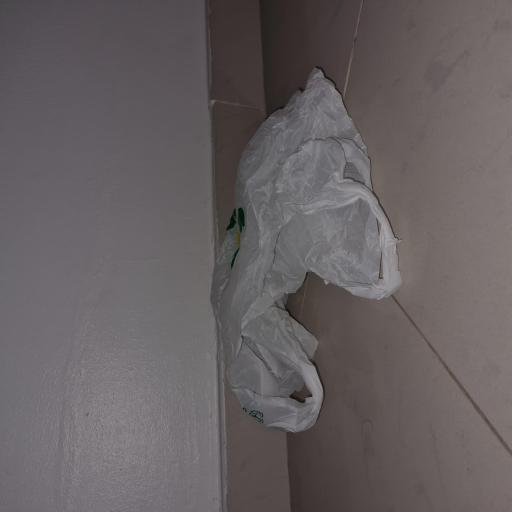plastic bag: (210, 65, 402, 434)
